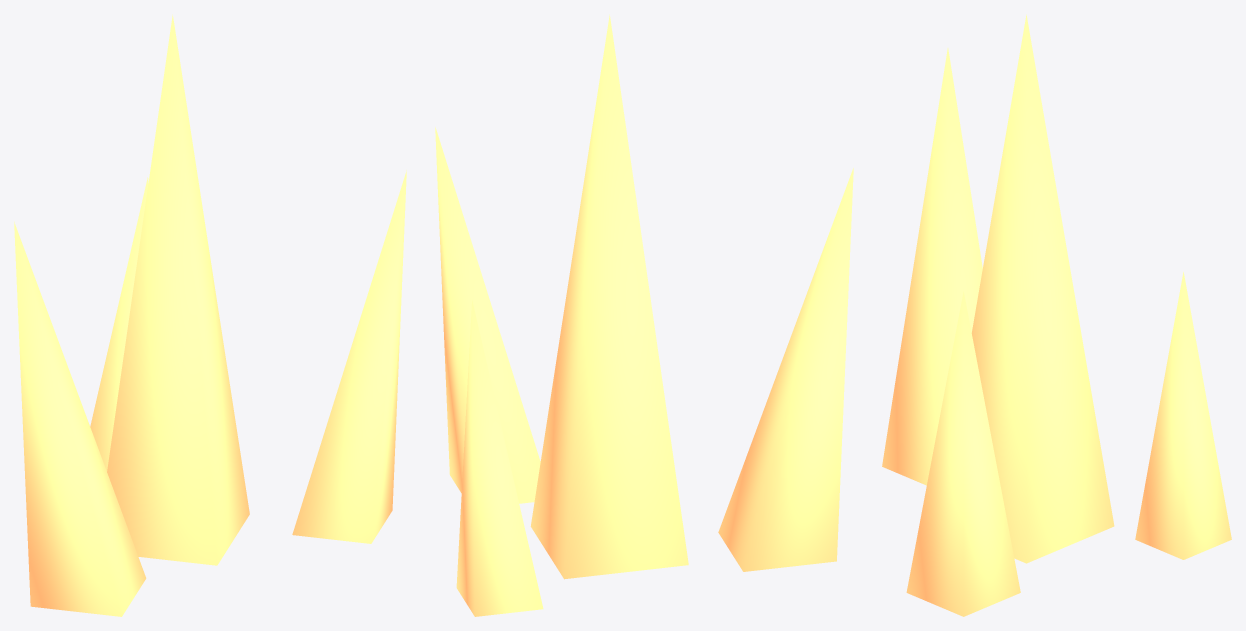
File: SM_cv_crystal_red.glb
The picture shows the model from 3 angles, left to right: view 1: azimuth 30°, elevation 25°; view 2: azimuth 150°, elevation 25°; view 3: azimuth 270°, elevation 25°; orthographic projection. The views are drawn at different scales.
Parts seen in each view (by area): view 1: SM_cv_crystal_red; view 2: SM_cv_crystal_red; view 3: SM_cv_crystal_red.
Boxes of the visible parts, box(x1,y1,x2,y2) form: SM_cv_crystal_red: box(14, 14, 406, 616); SM_cv_crystal_red: box(435, 14, 853, 616); SM_cv_crystal_red: box(882, 14, 1231, 616).
Bounding box in the file's own units: 1.45 × 1.8 × 1.11.
